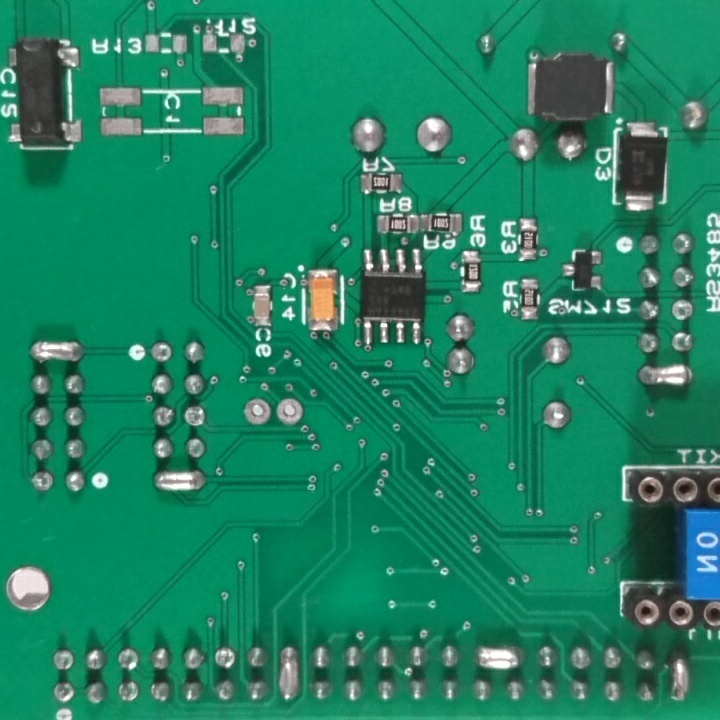F: (240, 394, 273, 431), (274, 396, 307, 430), (667, 295, 696, 326), (149, 338, 173, 366), (51, 680, 76, 706), (118, 676, 140, 705), (182, 405, 207, 430), (213, 645, 236, 671), (30, 472, 56, 493)
P: (634, 358, 695, 392), (27, 336, 87, 368), (277, 641, 305, 704), (665, 648, 693, 707), (150, 468, 210, 494), (474, 642, 525, 672)
